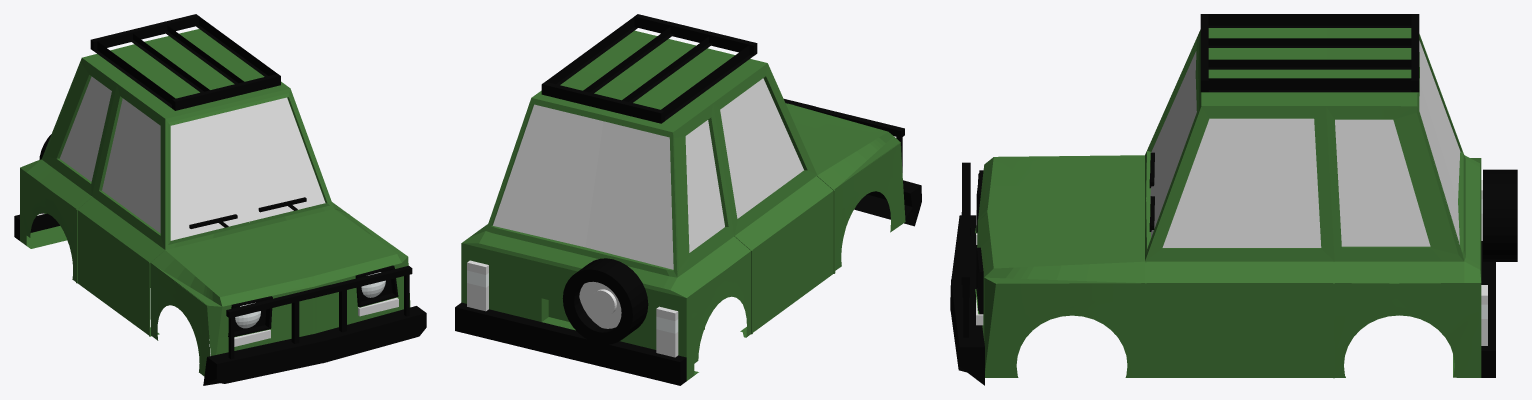
File: jeep.glb
The picture shows the model from 3 angles, left to right: view 1: azimuth 30°, elevation 25°; view 2: azimuth 150°, elevation 25°; view 3: azimuth 270°, elevation 25°; orthographic projection. The views are drawn at different scales.
Visible parts, largest first — view 1: Body, FrontWindow.002, Cube.002, RoofRack.025, FrontLeftWindow, Cube.016, Cube.012, Cube.004, Cube.022, Cube.006, Cube.013, Cube.015; view 2: Body, ReawWindow.003, RoofRack.025, FrontLeftWindow, Cube.022, Cylinder.007, Cube.016, Cylinder.008, Cube.002, Cube.021, Cube.012, Cube.020 (+1 smaller); view 3: Body, FrontLeftWindow, RoofRack.025, Cube.016, ReawWindow.003, FrontWindow.002, Cylinder.007, Cube.002, Cube.022, Cube.012, Cube.004.
Boxes of the visible parts, x1,y1,x2,y2 form: Body: (20, 29, 410, 376); FrontWindow.002: (170, 97, 325, 240); Cube.002: (203, 306, 426, 385); RoofRack.025: (90, 14, 280, 110); FrontLeftWindow: (102, 98, 160, 233); Cube.016: (60, 76, 111, 181); Cube.012: (226, 265, 412, 318); Cube.004: (228, 265, 398, 336); Cube.022: (14, 213, 59, 240); Cube.006: (358, 297, 398, 316); Cube.013: (291, 301, 299, 343); Cube.015: (234, 329, 270, 346); Body: (461, 30, 905, 380); ReawWindow.003: (493, 104, 673, 269); RoofRack.025: (541, 14, 757, 123); FrontLeftWindow: (720, 78, 803, 218); Cube.022: (455, 302, 686, 385); Cylinder.007: (562, 258, 648, 344); Cube.016: (685, 120, 724, 252); Cylinder.008: (581, 281, 621, 327); Cube.002: (854, 180, 921, 226); Cube.021: (467, 283, 678, 357); Cube.012: (784, 99, 904, 137); Cube.020: (467, 270, 678, 333); Body: (975, 28, 1481, 378); FrontLeftWindow: (1162, 118, 1321, 247); RoofRack.025: (1200, 14, 1419, 92); Cube.016: (1335, 119, 1430, 246); ReawWindow.003: (1419, 40, 1460, 244); FrontWindow.002: (1150, 51, 1196, 237); Cylinder.007: (1483, 169, 1517, 261); Cube.002: (950, 215, 984, 385); Cube.022: (1481, 241, 1495, 377); Cube.012: (961, 162, 970, 284); Cube.004: (976, 170, 983, 314).
Bounding box in the file's own units: 0.5128 × 0.4726 × 0.8996.
